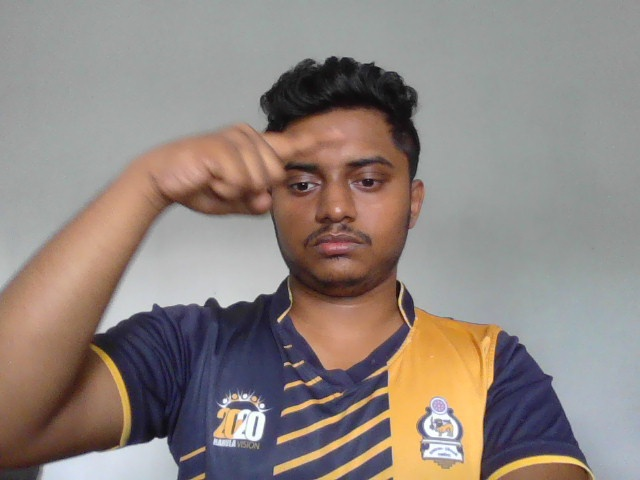Going To: (125, 119, 349, 214)
